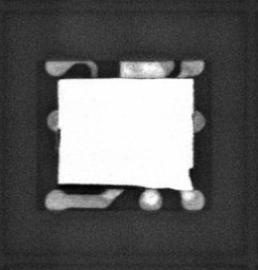DIE_BROKEN: (56, 182, 150, 191), (188, 165, 195, 188)
